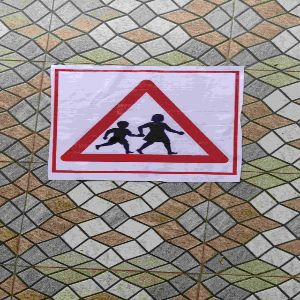schools: (56, 72, 233, 175)
